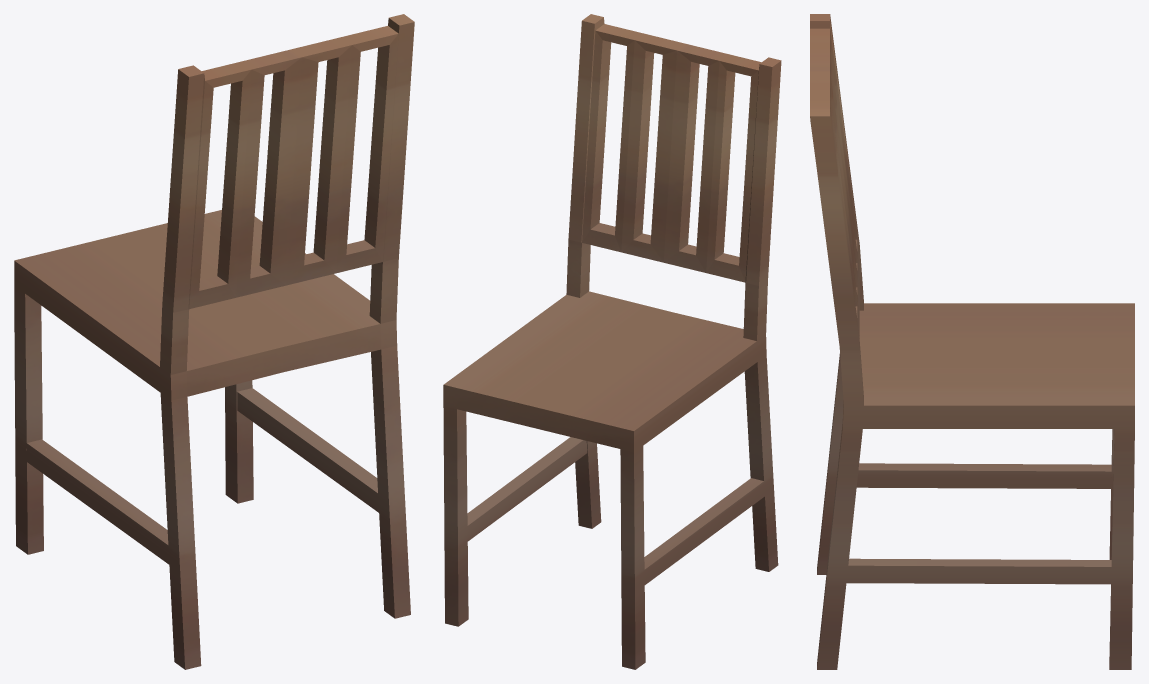
Rendered from RegularChair.fbx.
3 renders of one model, left to right at view 1: azimuth 30°, elevation 25°; view 2: azimuth 150°, elevation 25°; view 3: azimuth 270°, elevation 25°, orthographic. The views are drawn at different scales.
Parts seen in each view (by area): view 1: Cube; view 2: Cube; view 3: Cube.
Boxes of the visible parts, bbox=[...] form: Cube: bbox=[14, 14, 414, 669]; Cube: bbox=[443, 14, 781, 669]; Cube: bbox=[810, 14, 1134, 669].
Bounding box in the file's own units: 1.68 × 4.23 × 2.25.
1 material, 1 textured.
